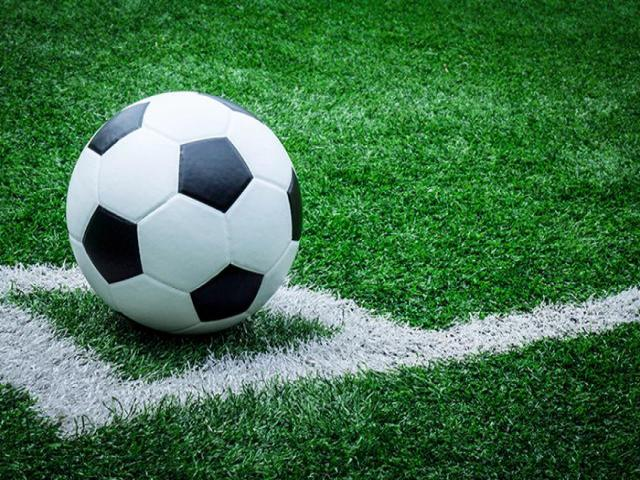round ball: (66, 92, 301, 334)
